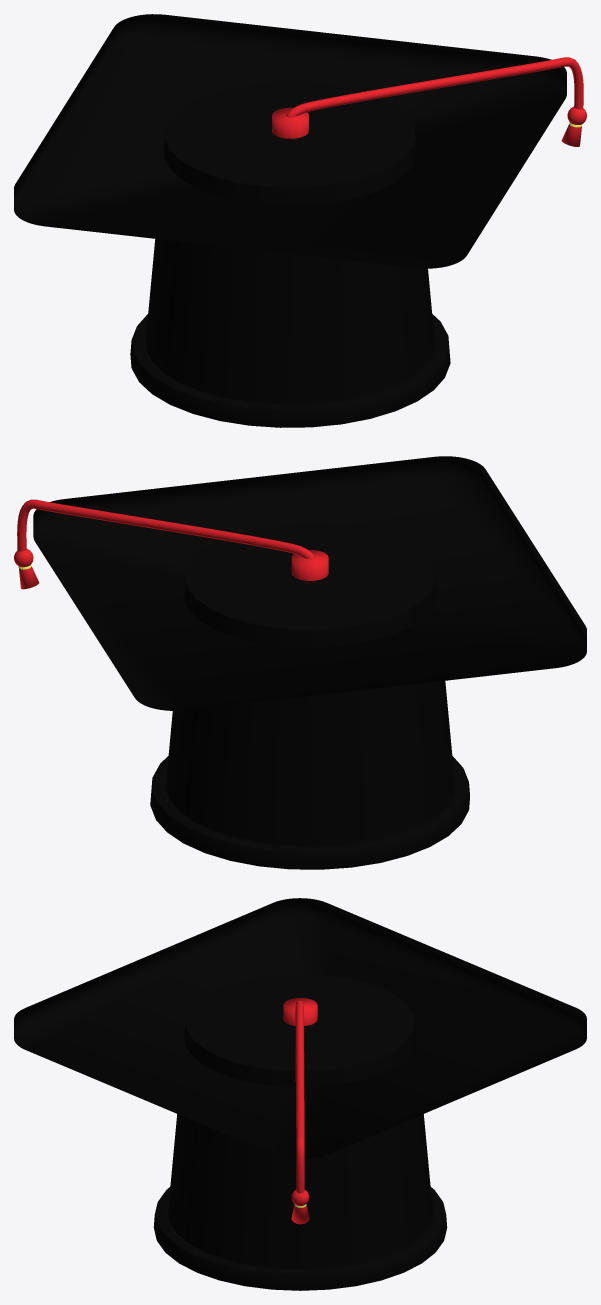
The model's file is toga.glb.
3 renders of one model, top to bottom at view 1: azimuth 30°, elevation 25°; view 2: azimuth 150°, elevation 25°; view 3: azimuth 270°, elevation 25°, orthographic. The views are drawn at different scales.
Visible parts, largest first — view 1: Plane.001, Cylinder.003, object 1, Circle.001; view 2: Plane.001, Cylinder.003, object 1, Circle.001; view 3: Plane.001, Cylinder.003, object 1, Circle.001.
Part boxes in pixels (x1,y1,x2,y2): Plane.001: (14, 14, 566, 268); Cylinder.003: (130, 81, 450, 427); object 1: (286, 57, 583, 117); Circle.001: (272, 107, 308, 138); Plane.001: (33, 456, 586, 710); Cylinder.003: (150, 524, 469, 869); object 1: (17, 499, 314, 559); Circle.001: (291, 550, 328, 580); Plane.001: (14, 898, 586, 1159); Cylinder.003: (153, 974, 447, 1290); object 1: (295, 1000, 304, 1193); Circle.001: (283, 997, 317, 1025).
Size of the model in its own units: 2.8 by 1.2 by 2.68.
